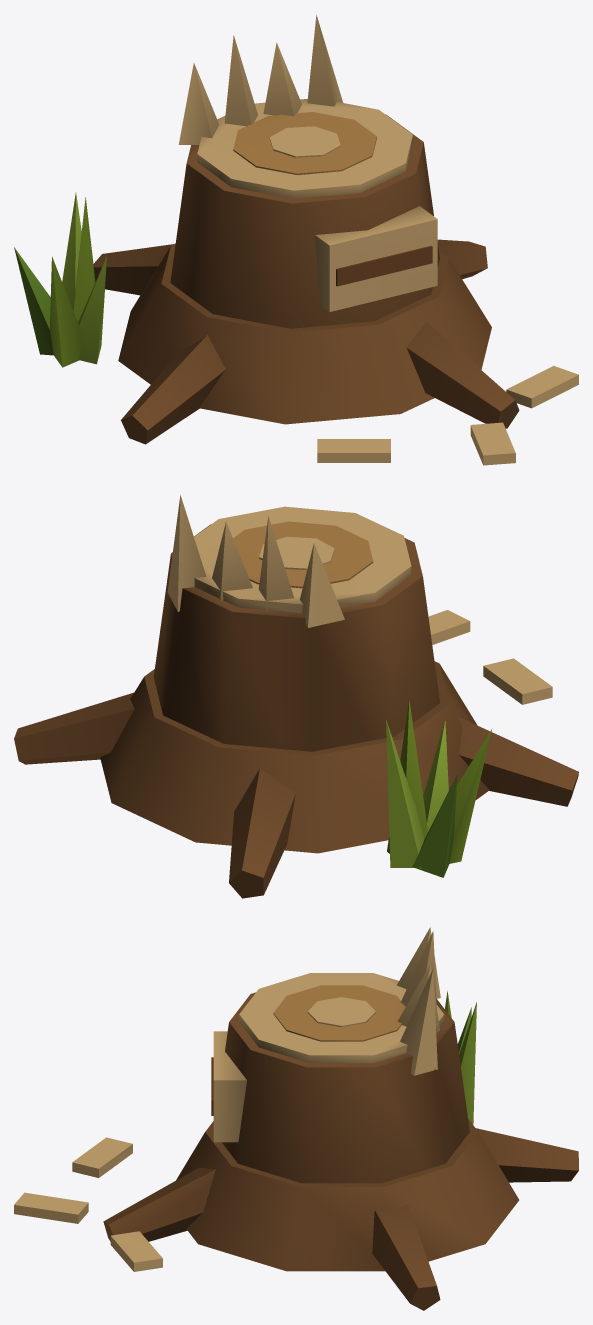
File: n_stump.glb
3 renders of one model, top to bottom at view 1: azimuth 30°, elevation 25°; view 2: azimuth 150°, elevation 25°; view 3: azimuth 270°, elevation 25°, orthographic. The views are drawn at different scales.
Visible parts, largest first — view 1: body; view 2: body; view 3: body.
Boxes of the visible parts, left/top/right/bottom form: body: left=14, top=15, right=578, bottom=465; body: left=14, top=495, right=578, bottom=898; body: left=14, top=927, right=578, bottom=1310.
Size of the model in its own units: 1.39 by 0.8857 by 1.65.
